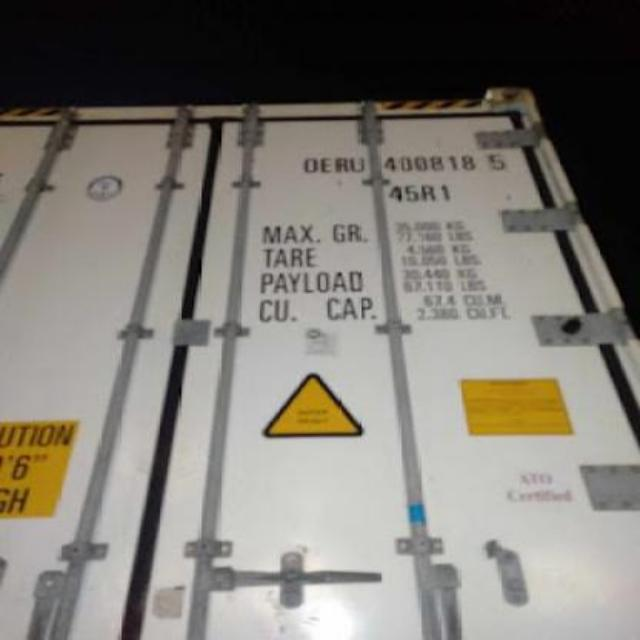0: (410, 153, 430, 171), (398, 152, 412, 174)
1: (444, 150, 460, 172)
4: (380, 150, 396, 172)
5: (486, 148, 504, 172)
8: (426, 147, 446, 176), (460, 148, 476, 176)
E: (321, 154, 334, 182)
O: (302, 153, 318, 177)
R: (332, 153, 350, 177)
U: (347, 149, 368, 175)
